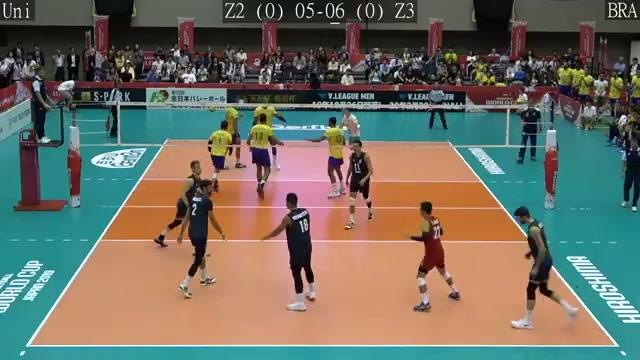ball: (206, 102, 219, 113)
